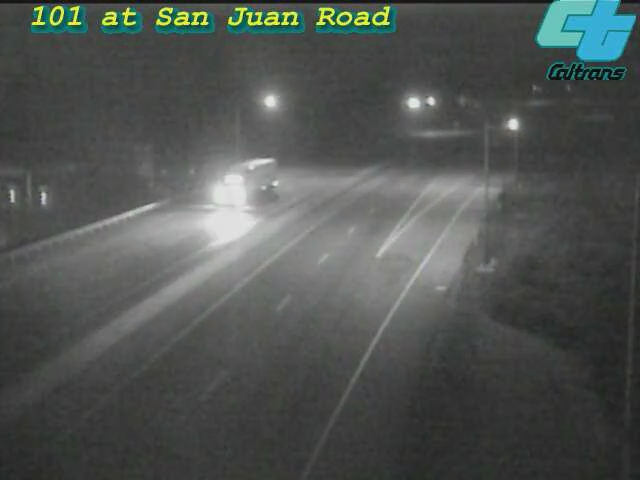vehicle: (206, 144, 286, 224), (488, 99, 538, 149)
